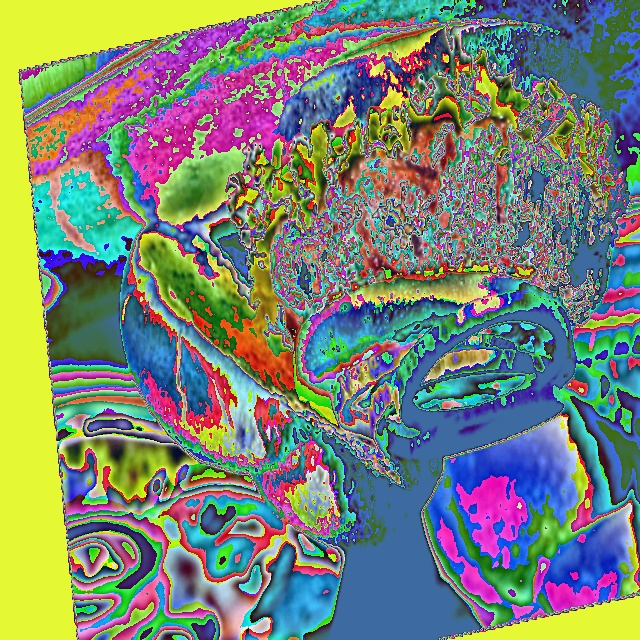background: (59, 19, 639, 639)
